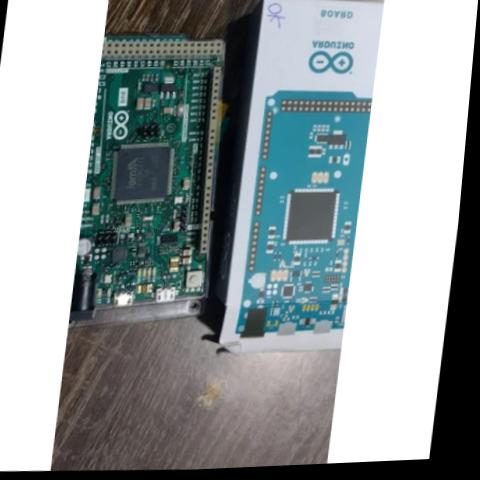Arduino-Due: (76, 24, 250, 331)
